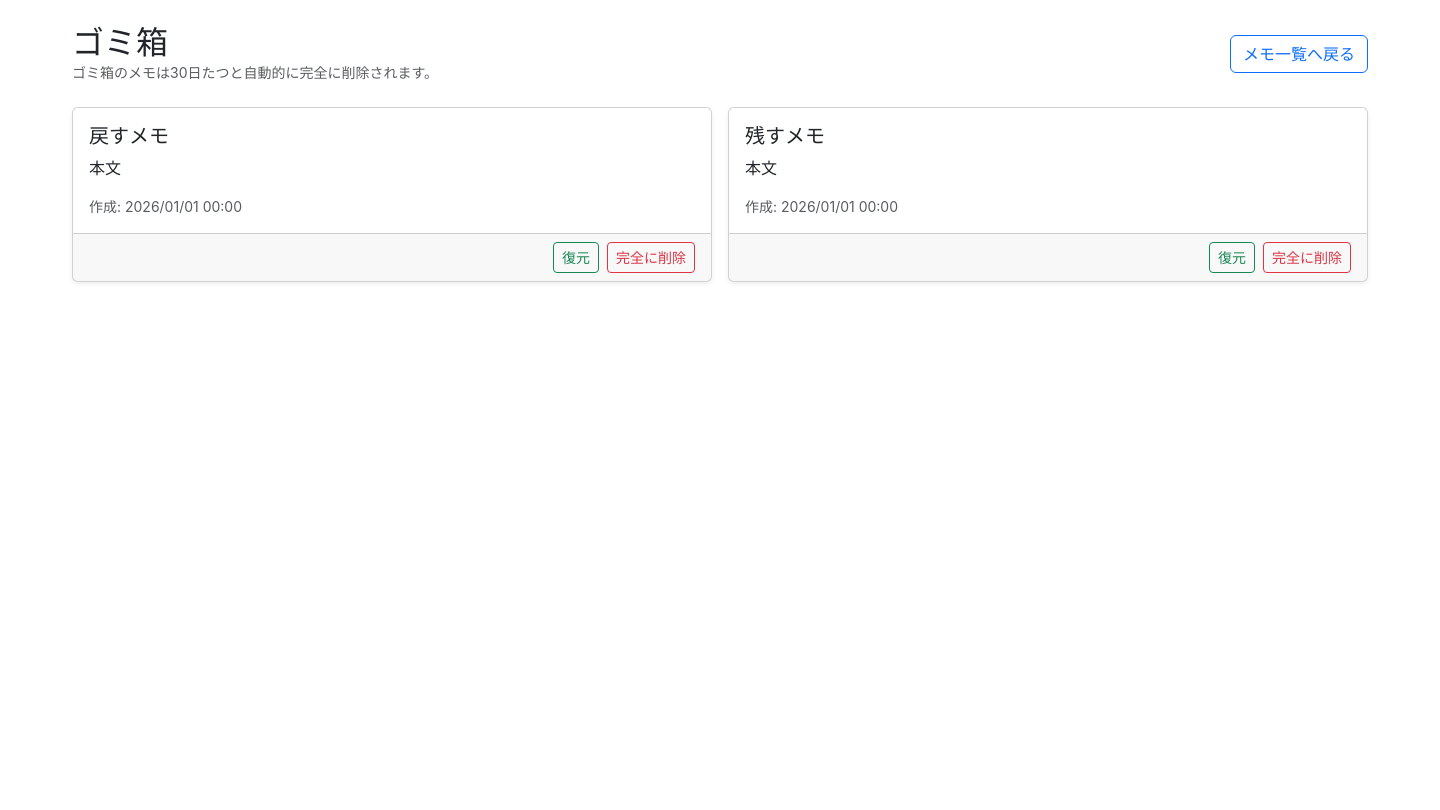
Scenario: TrashPage › 復元したメモは一覧から消える
This screenshot has width=1440, height=810.
Expected: the text "戻すメモ" is shown, x1=89 y1=124 x2=169 y2=148
Click the 1st button "復元". click: (576, 258)
box: x1=553 y1=242 x2=599 y2=273
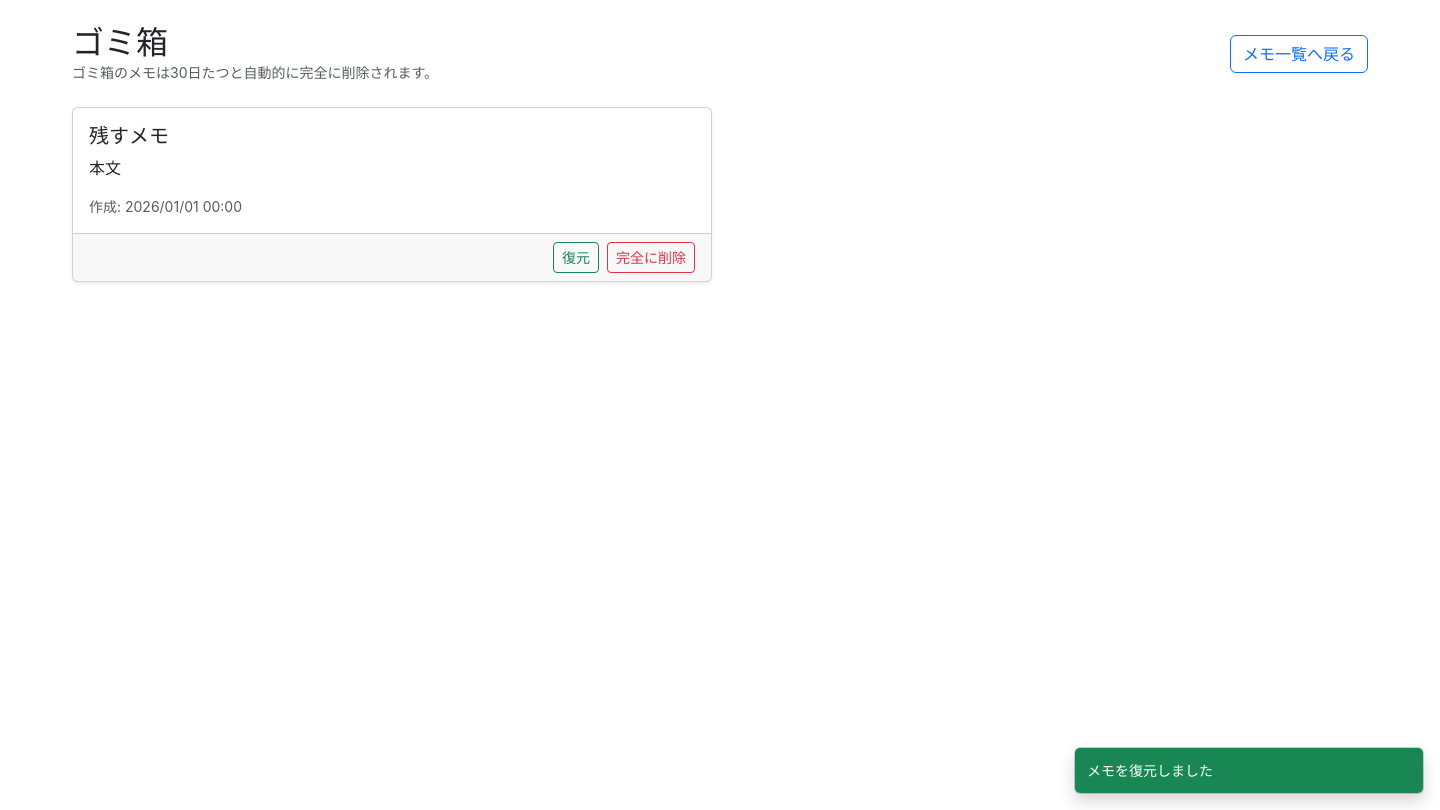
Expected: the text "残すメモ" is shown, x1=89 y1=124 x2=169 y2=148
Result: the text "戻すメモ" is gone
